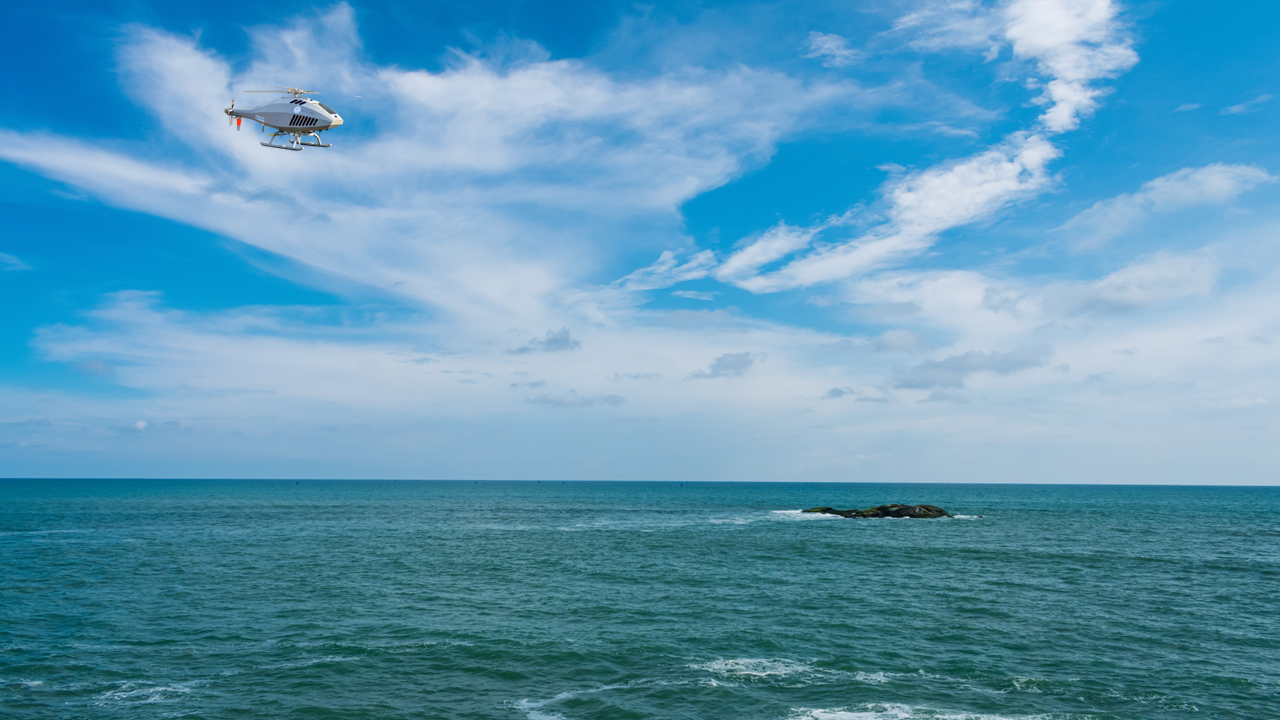military drone: (224, 84, 344, 151)
